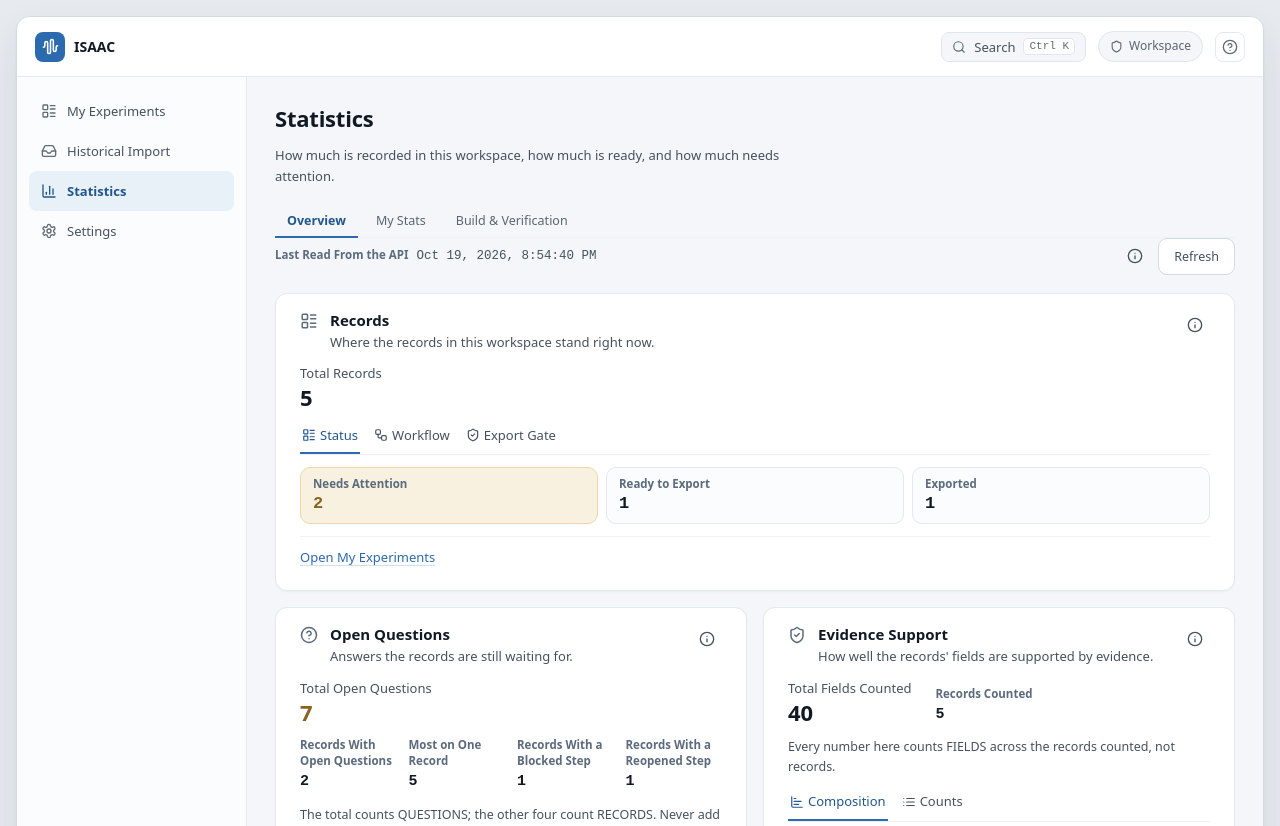
Refresh › a Refresh where ONE of the tracked reads fails says so, and never reads as a clean success
Check: the element showing "Total Records 5" is shown, box [300,364,382,411]
What coordinates should you click on to do the following:
click the button "Refresh"
I would click on:
 (1197, 256)
Its box is [1158,238,1235,275].
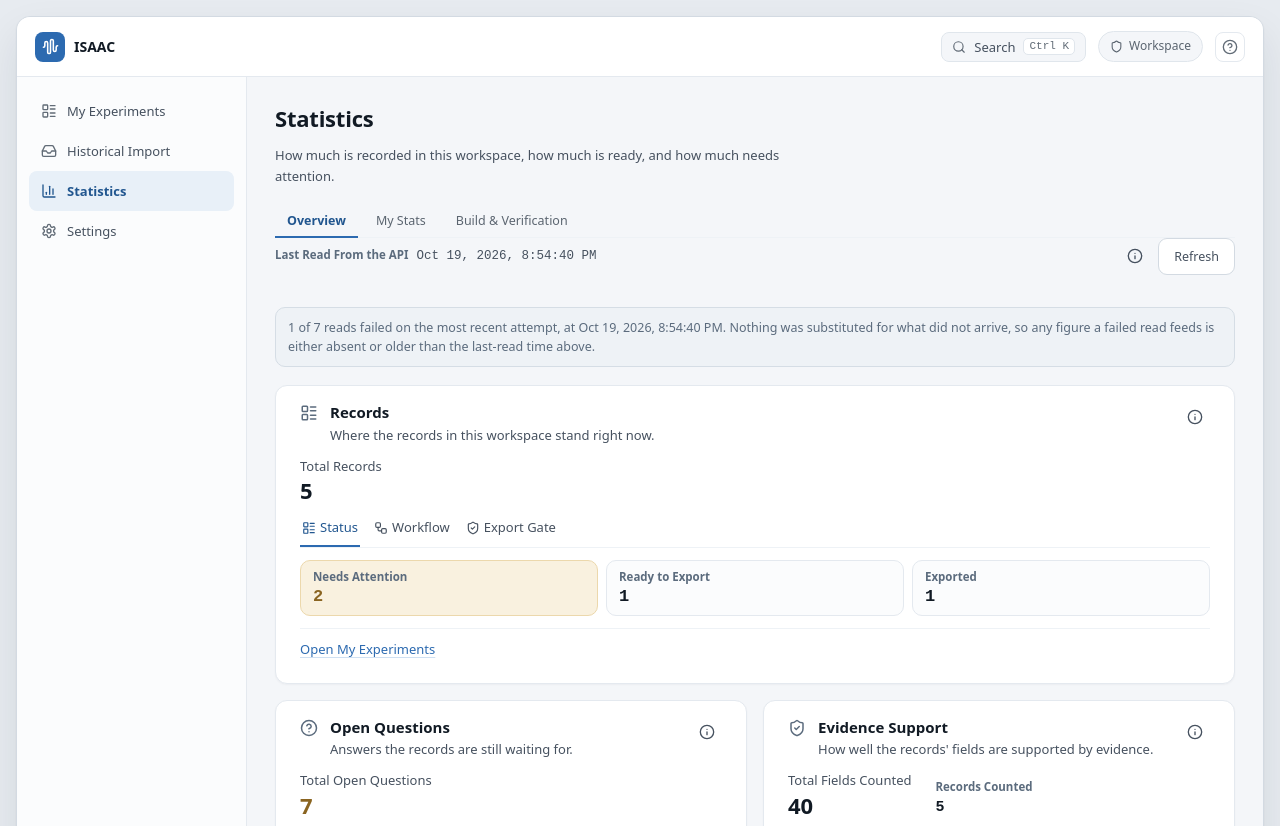
Check: the text "Last Read From the API" is shown, box [275,246,408,264]
Check: the text "1 of 7 reads failed on the most recent attempt" is shown, box [288,318,1222,356]
Check: the text "either absent or older than the last-read time above" is shown, box [288,319,1214,355]
